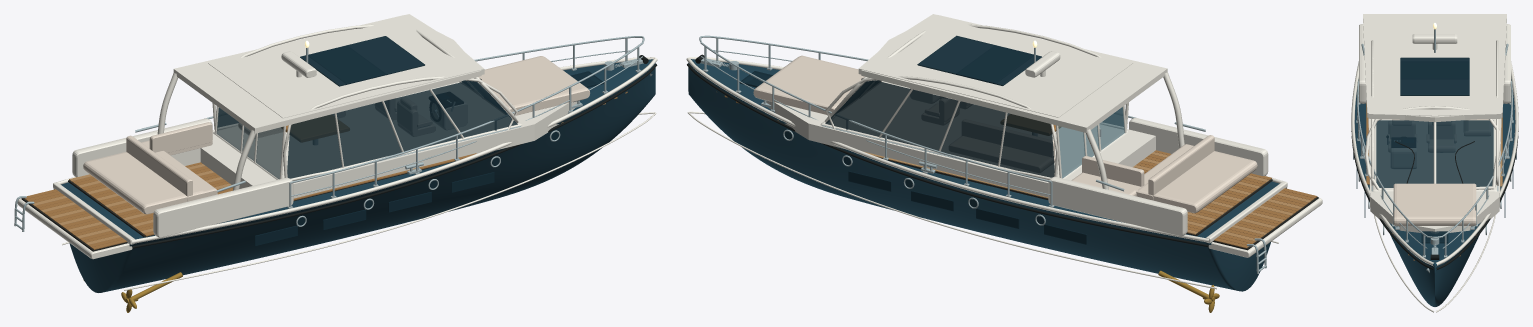
The model's file is sport-yacht.glb.
3 views of the same model, side by side, from view 1: azimuth 30°, elevation 25°; view 2: azimuth 150°, elevation 25°; view 3: azimuth 270°, elevation 25° (orthographic). The views are drawn at different scales.
Parts seen in each view (by area): view 1: white, paint, blackGlass, cushion, teak, steel, glass, rubber, teakLight, teakDark, bronze; view 2: white, paint, blackGlass, cushion, steel, teak, teakLight, glass, rubber, teakDark, bronze; view 3: white, blackGlass, cushion, paint, steel, rubber, dark, teakLight.
Boxes of the visible parts, x1=… form: white: x1=17, y1=14, x2=657, y2=290; paint: x1=61, y1=59, x2=655, y2=292; blackGlass: x1=218, y1=36, x2=603, y2=245; cushion: x1=83, y1=56, x2=590, y2=214; teak: x1=24, y1=91, x2=627, y2=249; steel: x1=14, y1=36, x2=652, y2=231; glass: x1=216, y1=108, x2=283, y2=178; rubber: x1=53, y1=55, x2=657, y2=248; teakLight: x1=32, y1=103, x2=605, y2=245; teakDark: x1=21, y1=162, x2=451, y2=251; bronze: x1=83, y1=272, x2=182, y2=312; white: x1=686, y1=14, x2=1322, y2=289; paint: x1=688, y1=59, x2=1279, y2=291; blackGlass: x1=739, y1=35, x2=1123, y2=244; cushion: x1=753, y1=55, x2=1257, y2=213; steel: x1=699, y1=35, x2=1266, y2=273; teak: x1=724, y1=95, x2=1317, y2=248; teakLight: x1=716, y1=91, x2=1311, y2=241; glass: x1=1058, y1=107, x2=1124, y2=178; rubber: x1=687, y1=54, x2=1286, y2=247; teakDark: x1=881, y1=158, x2=1318, y2=250; bronze: x1=1158, y1=270, x2=1219, y2=312; white: x1=1351, y1=14, x2=1518, y2=312; blackGlass: x1=1353, y1=57, x2=1516, y2=243; cushion: x1=1387, y1=119, x2=1490, y2=225; paint: x1=1354, y1=79, x2=1515, y2=306; steel: x1=1356, y1=29, x2=1513, y2=272; rubber: x1=1351, y1=131, x2=1518, y2=269; dark: x1=1392, y1=138, x2=1415, y2=147; teakLight: x1=1500, y1=117, x2=1502, y2=186.
Size of the model in its own units: 15.35 by 5.03 by 4.14.
